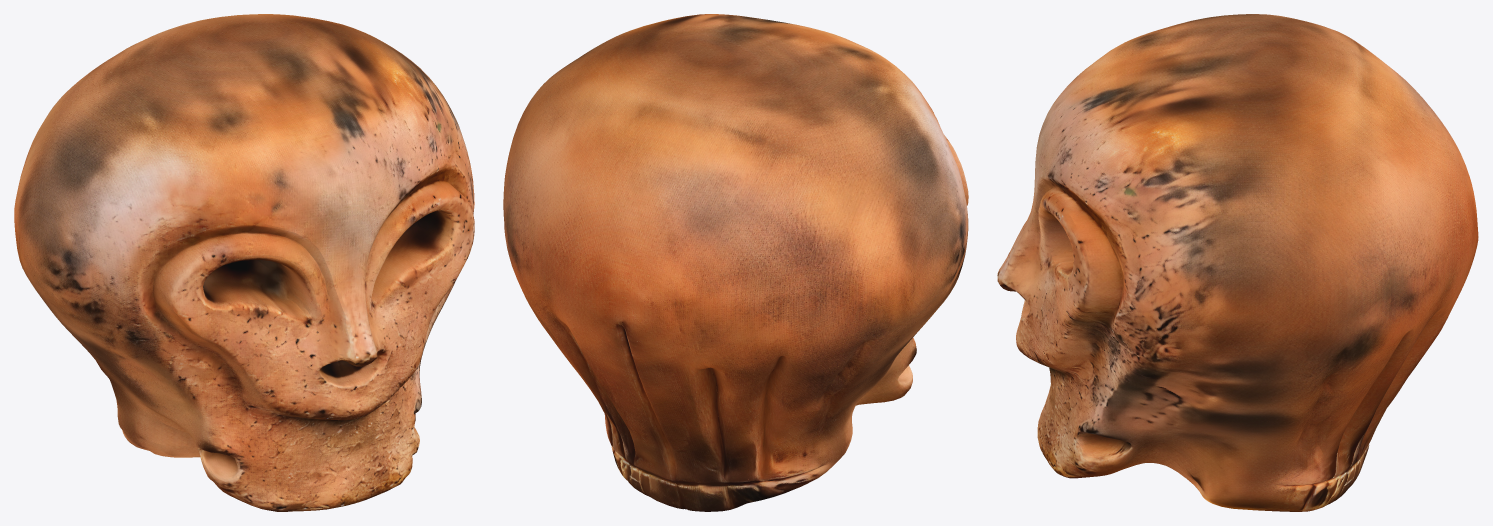
The model's file is valdivia.glb.
3 views of the same model, side by side, from view 1: azimuth 30°, elevation 25°; view 2: azimuth 150°, elevation 25°; view 3: azimuth 270°, elevation 25° (orthographic).
Visible parts, largest first — view 1: Mesh; view 2: Mesh; view 3: Mesh.
Boxes of the visible parts, x1=… form: Mesh: x1=14, y1=14, x2=474, y2=511; Mesh: x1=503, y1=14, x2=968, y2=511; Mesh: x1=997, y1=14, x2=1478, y2=511.
Bounding box in the file's own units: 0.2675 × 0.2619 × 0.2669.
Materials: 1 (1 with a texture image).
